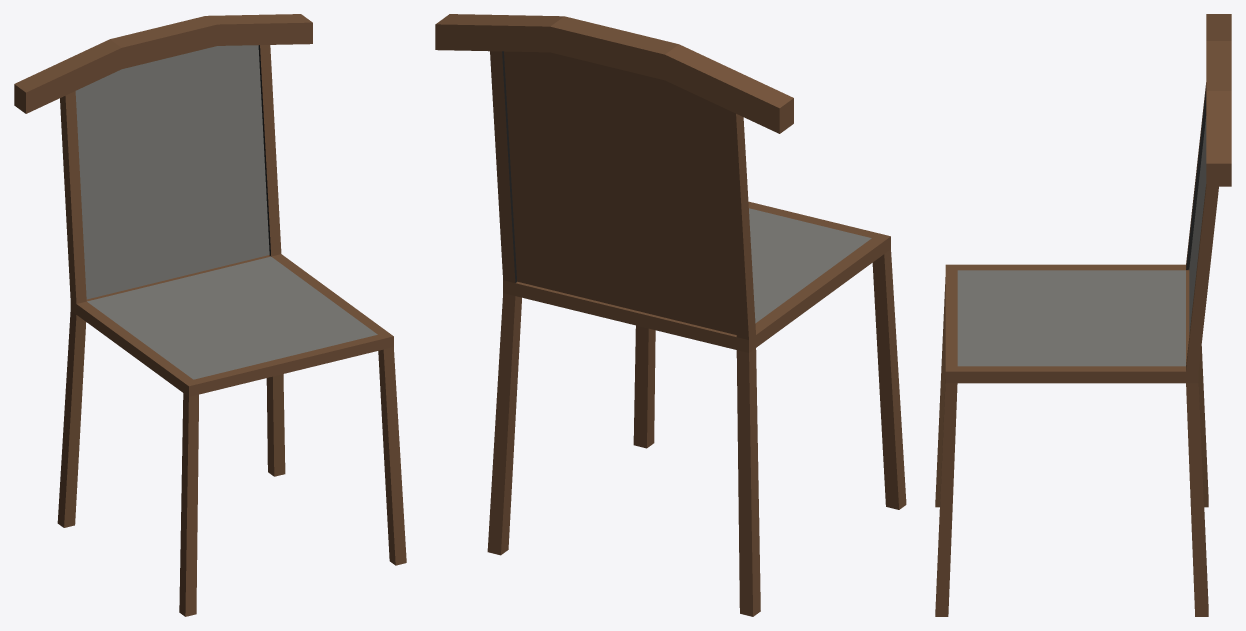
The model's file is chair.fbx.
The picture shows the model from 3 angles, left to right: view 1: azimuth 30°, elevation 25°; view 2: azimuth 150°, elevation 25°; view 3: azimuth 270°, elevation 25°; orthographic projection. The views are drawn at different scales.
Visible parts, largest first — view 1: Cube; view 2: Cube; view 3: Cube.
Boxes of the visible parts, x1,y1,x2,y2 form: Cube: [14, 14, 406, 616]; Cube: [435, 14, 906, 616]; Cube: [935, 14, 1231, 616].
Size of the model in its own units: 280 by 430 by 234.
